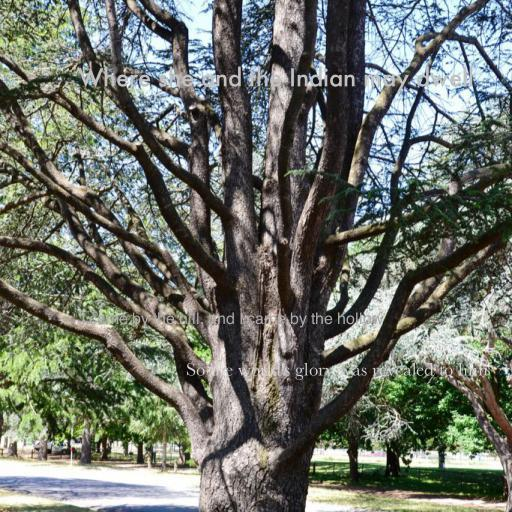Baskerville: (186, 362, 488, 381)
Futura: (78, 66, 474, 93)
SignPainter: (80, 312, 384, 328)
